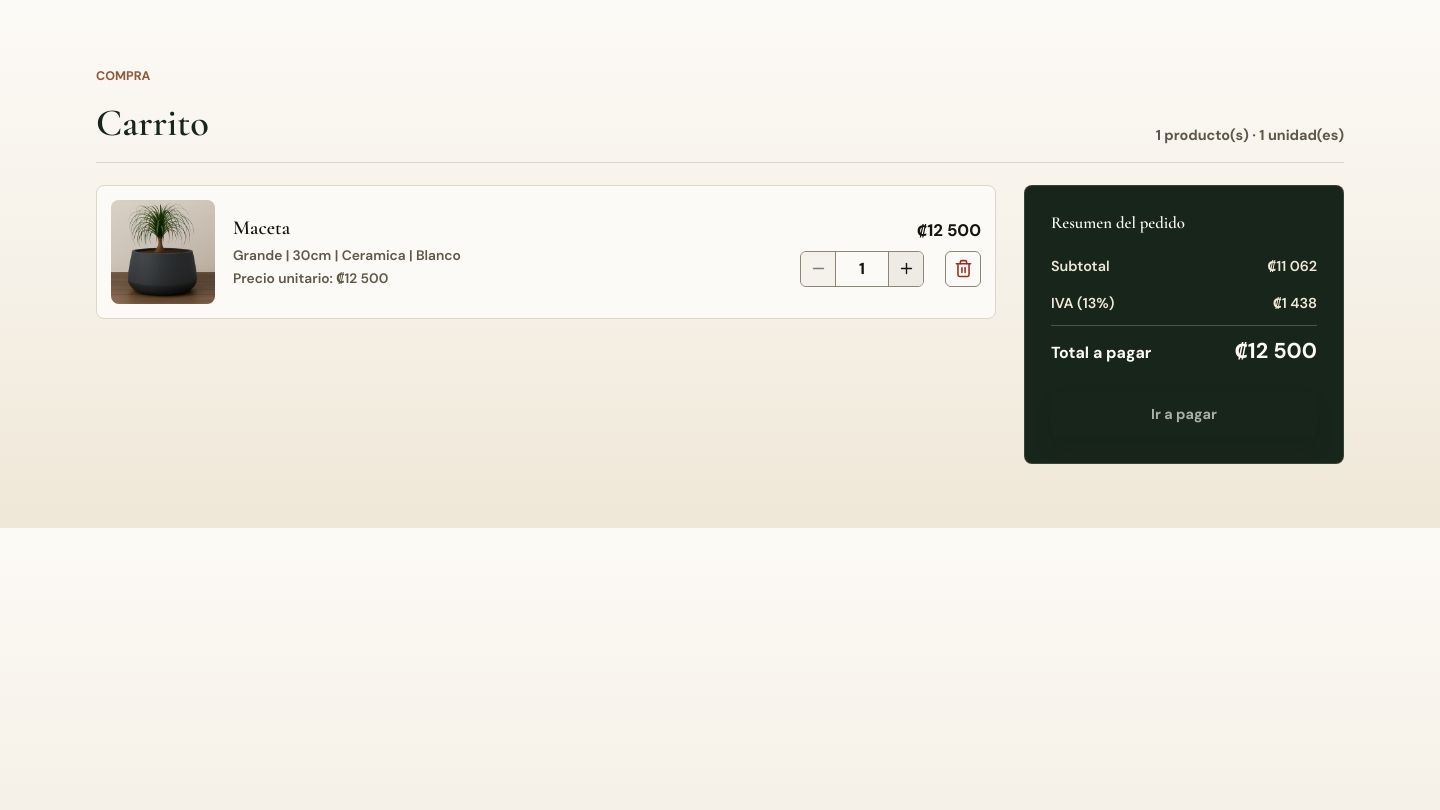
Test case: validates stock before increasing quantity and recalculates totals
Click the button named "Aumentar cantidad de Maceta".
click(906, 269)  # box [889,252,923,286]
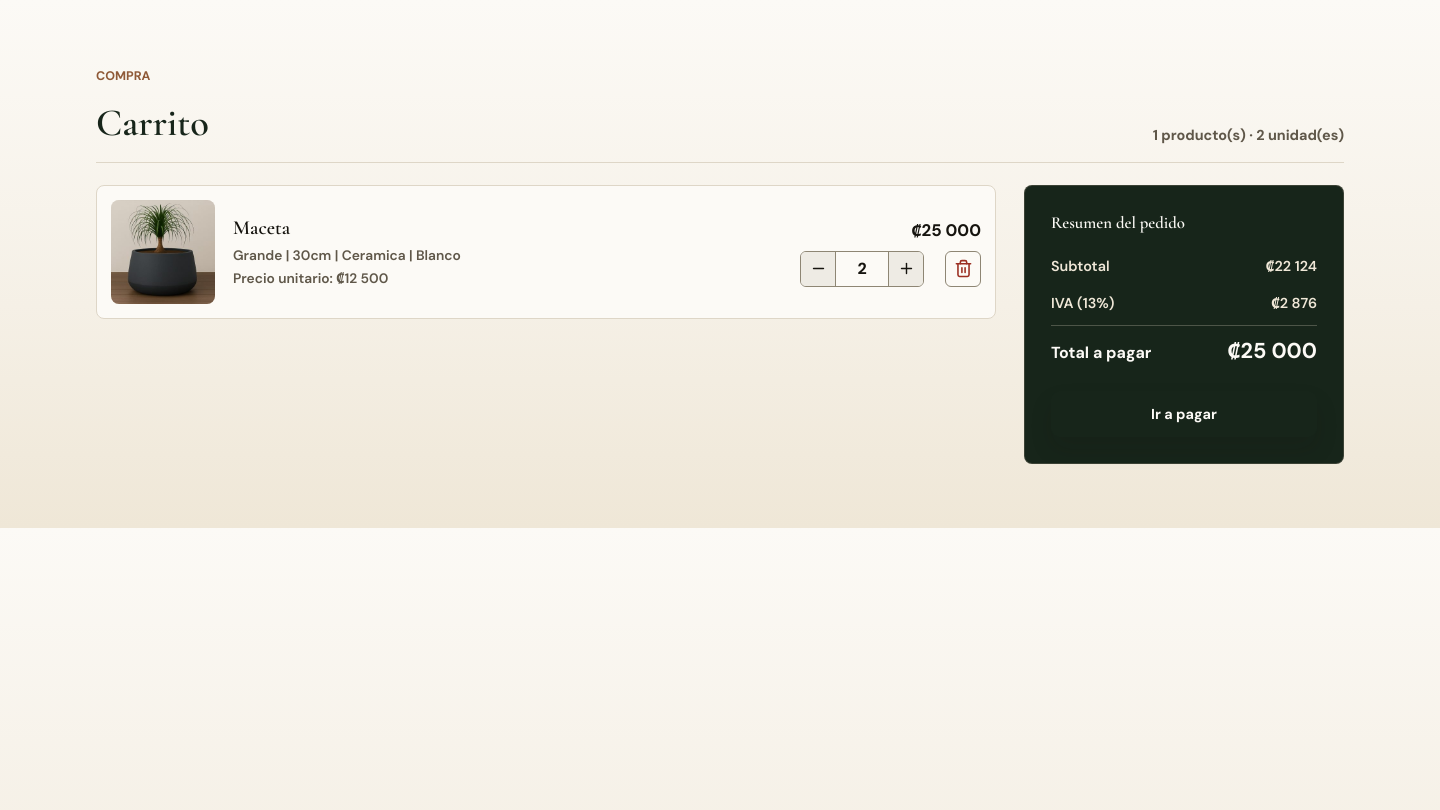
Result: the number field named "Cantidad de Maceta" holds "2" at [835,252,889,286]
Result: the text "1 producto(s) · 2 unidad(es)" is shown at [1153,126,1344,144]
